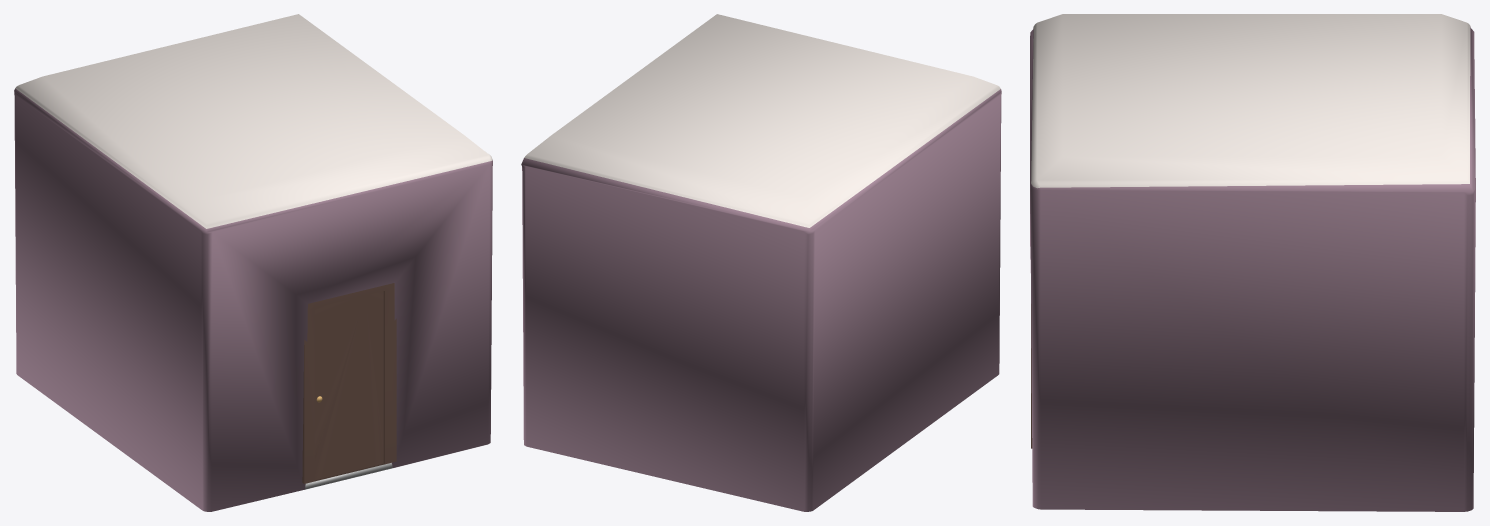
File: SizeRoom.fbx
The picture shows the model from 3 angles, left to right: view 1: azimuth 30°, elevation 25°; view 2: azimuth 150°, elevation 25°; view 3: azimuth 270°, elevation 25°; orthographic projection. The views are drawn at different scales.
Visible parts, largest first — view 1: Room, Cube; view 2: Room; view 3: Room.
Part boxes in pixels (x1=…): Room: x1=14, y1=14, x2=492, y2=511; Cube: x1=302, y1=283, x2=396, y2=483; Room: x1=521, y1=14, x2=1001, y2=511; Room: x1=1030, y1=14, x2=1475, y2=511.
Bounding box in the file's own units: 317 × 315 × 367.
